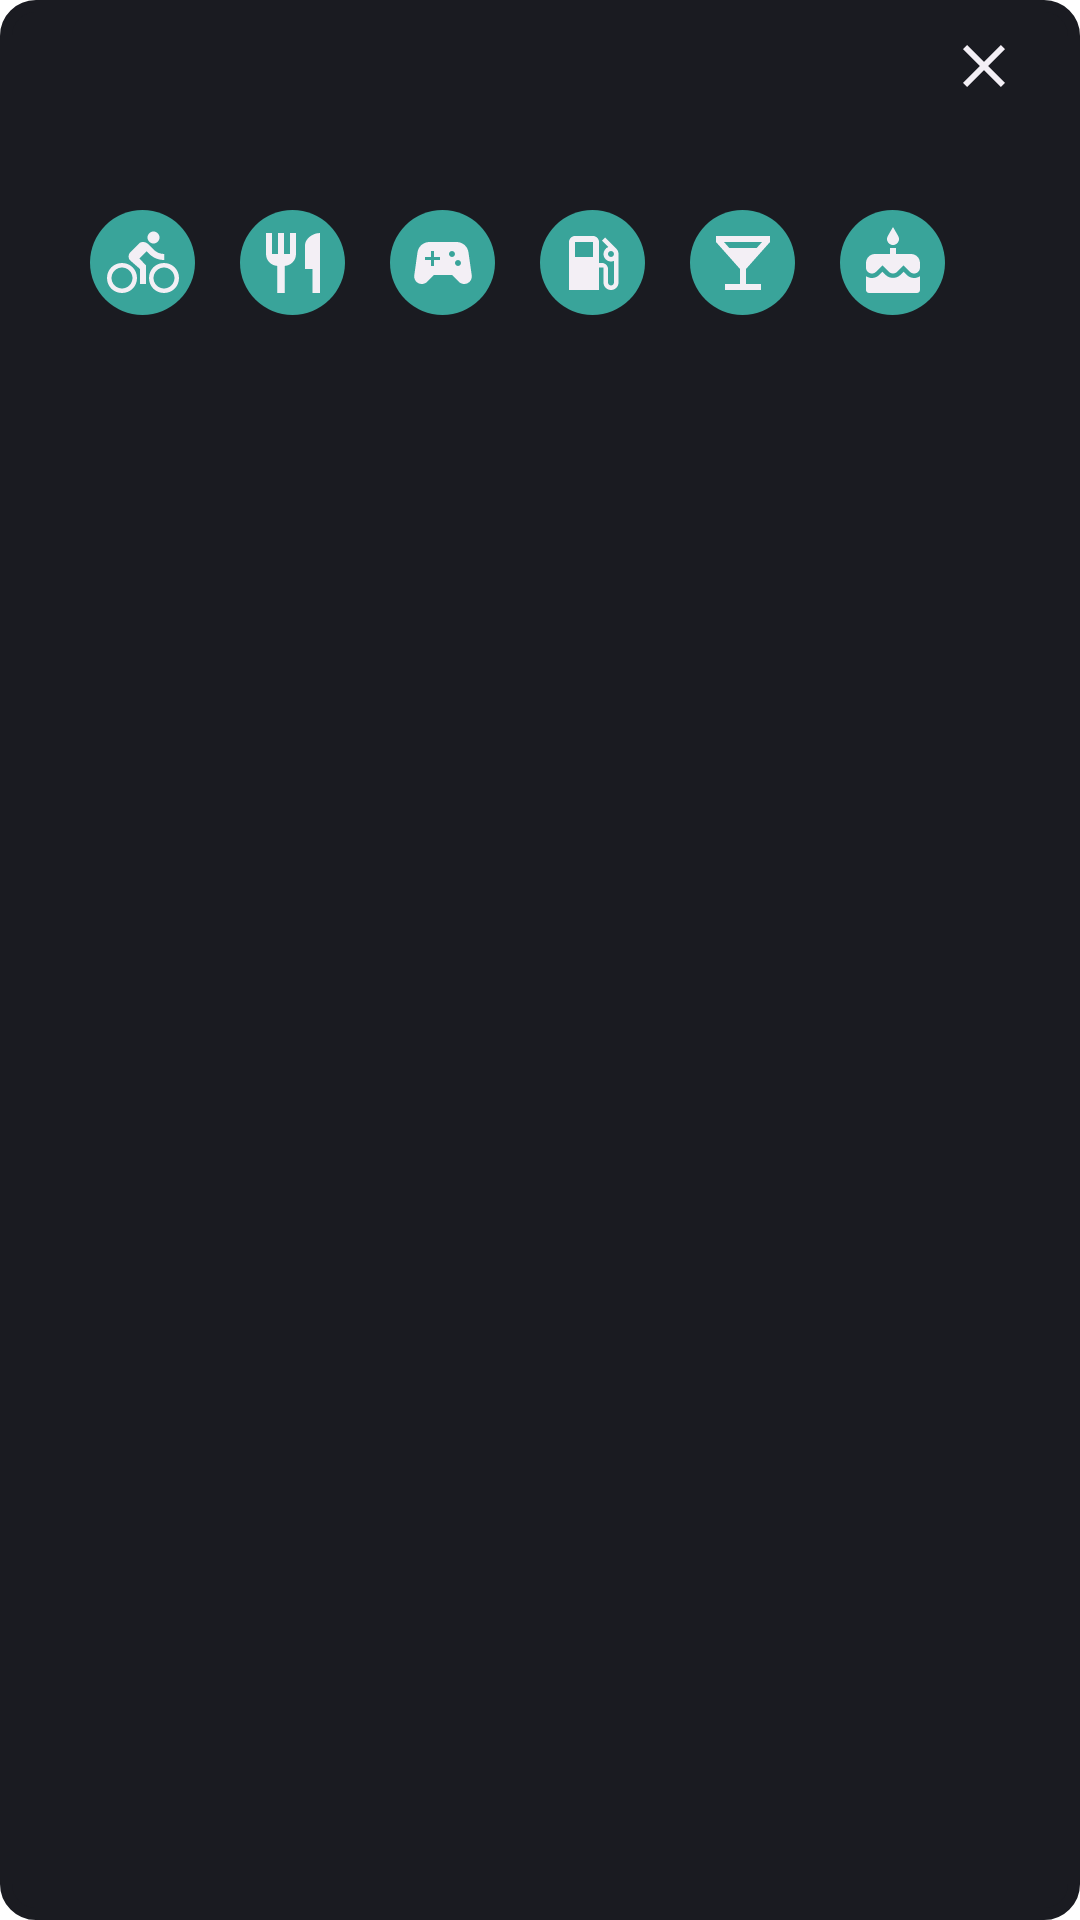

Icon bounding boxes for this 1080w x 1920h phone screenshot, format (x1, y1, x2, y2):
close: (963, 45, 1005, 87)
